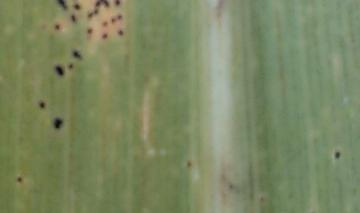tarspot: (53, 117, 63, 130), (55, 64, 64, 77), (72, 50, 82, 59), (58, 1, 68, 10), (95, 1, 110, 7), (258, 195, 266, 204), (335, 151, 341, 161), (185, 161, 193, 168), (38, 102, 46, 109), (54, 23, 61, 31), (117, 29, 125, 36), (70, 13, 76, 22), (87, 11, 94, 18), (67, 63, 74, 69), (75, 4, 82, 10), (102, 20, 109, 26), (117, 12, 122, 20), (229, 183, 234, 191), (17, 176, 23, 182), (102, 33, 108, 39), (87, 27, 93, 33), (110, 17, 116, 23), (94, 7, 99, 14), (115, 1, 121, 6)
